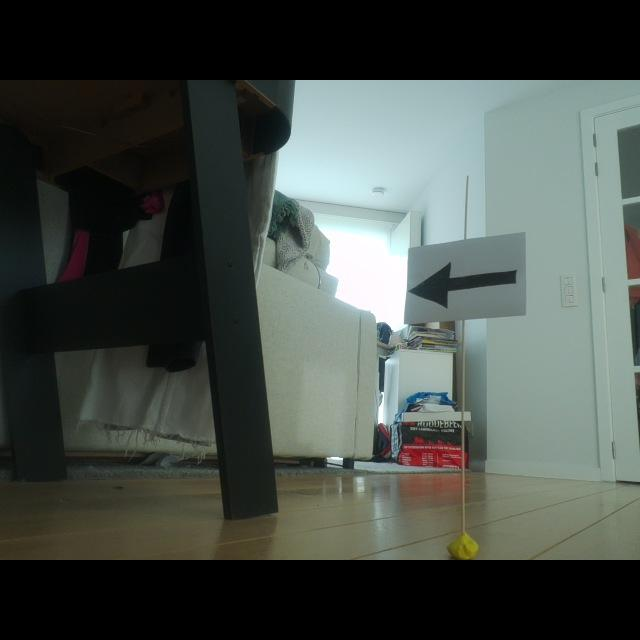balra_nyil: (409, 263, 516, 307)
